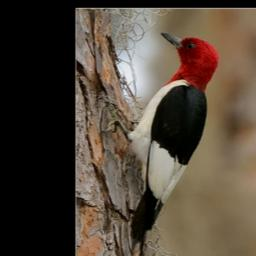Woodpecker: (99, 28, 221, 256)
